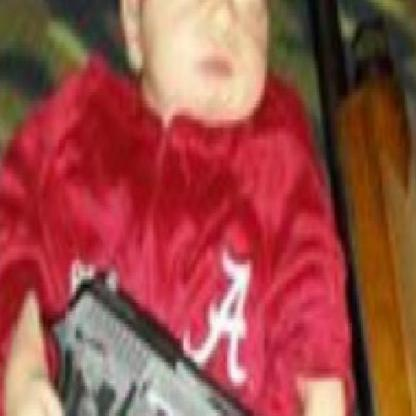gun: (0, 269, 312, 415)
